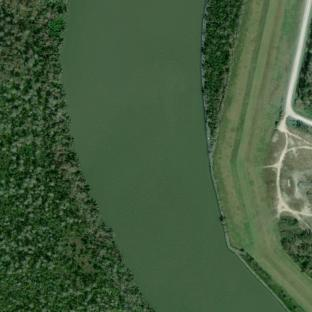Floresta: (0, 0, 154, 312), (201, 0, 245, 142), (241, 252, 306, 312), (278, 216, 312, 278), (294, 20, 312, 118), (0, 0, 0, 0)
